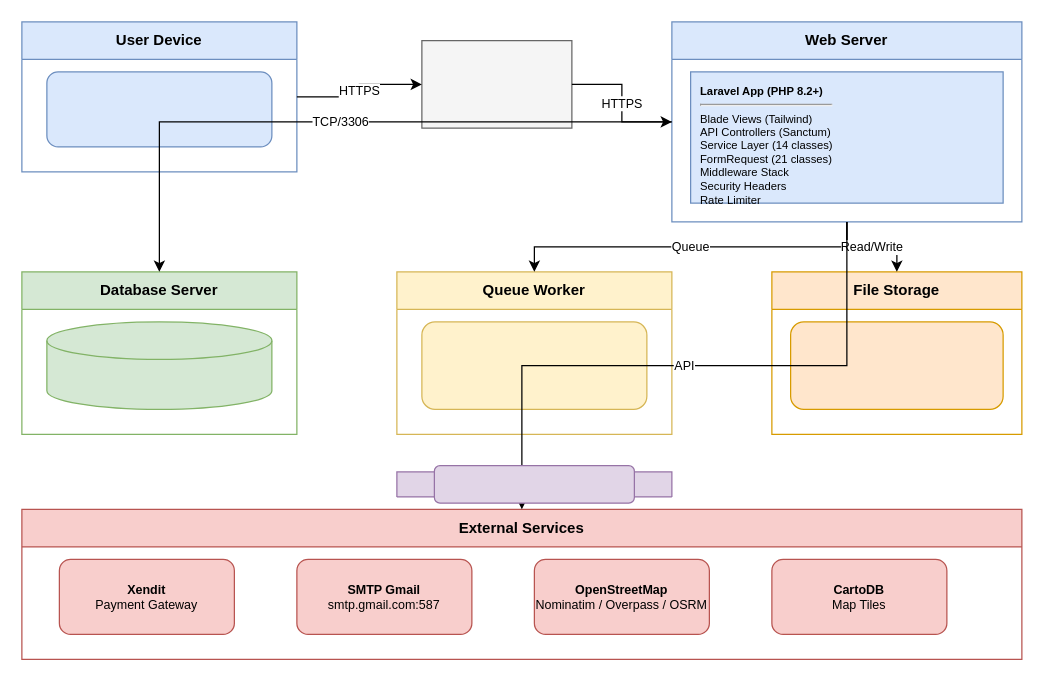
The diagram is 1044 pixels wide and 681 high, and some of its shapes have lost their labels. The shapes that lost their labels are listed below. From the top down, each one's centre as x and y in pixels, then its label:
At pixel 496 83: "Internet (HTTPS)".
At pixel 159 109: "Browser Chrome / Firefox / Edge Tailwind CSS + Vite AJAX (Axios) + Blade".
At pixel 159 365: "MySQL 8+ Tables: 17 entitas bisnis Indexes: 16+ performance".
At pixel 534 365: "php artisan queue:listen Driver: Database Notifikasi email Job processing".
At pixel 896 365: "Local Disk storage/app/public/ Foto kos, kamar, KTP, bukti bayar, profil, dll".
At pixel 533 483: "Cron: setiap menit schedule:run (08:00 & 18:00 WIB)".
